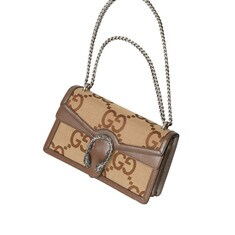Gucci: (47, 79, 173, 202), (85, 127, 114, 176), (111, 151, 138, 180)
